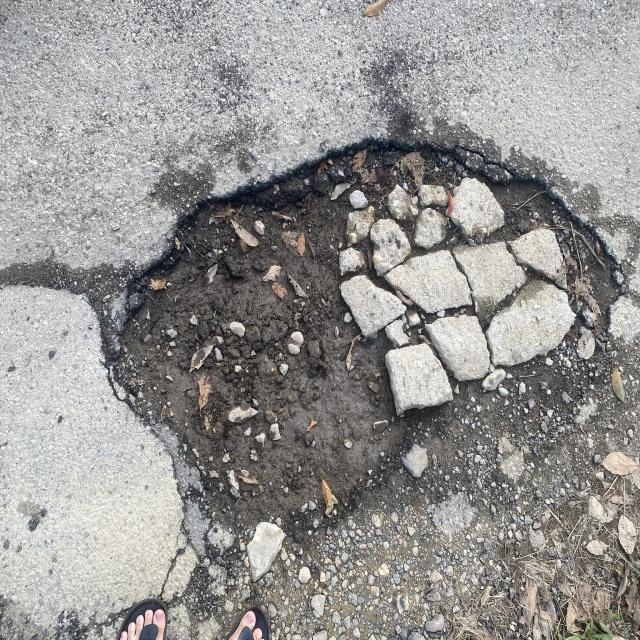pothole: (83, 93, 640, 635)
